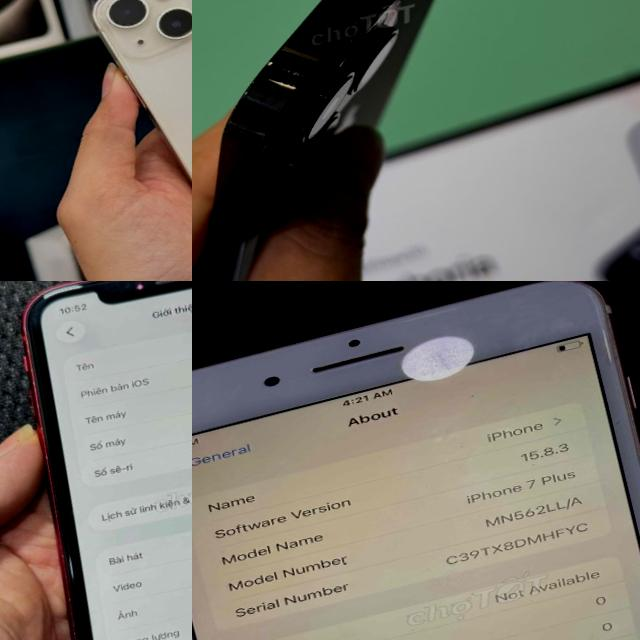scratch: (27, 467, 102, 640)
screen_defect: (386, 320, 487, 396)
